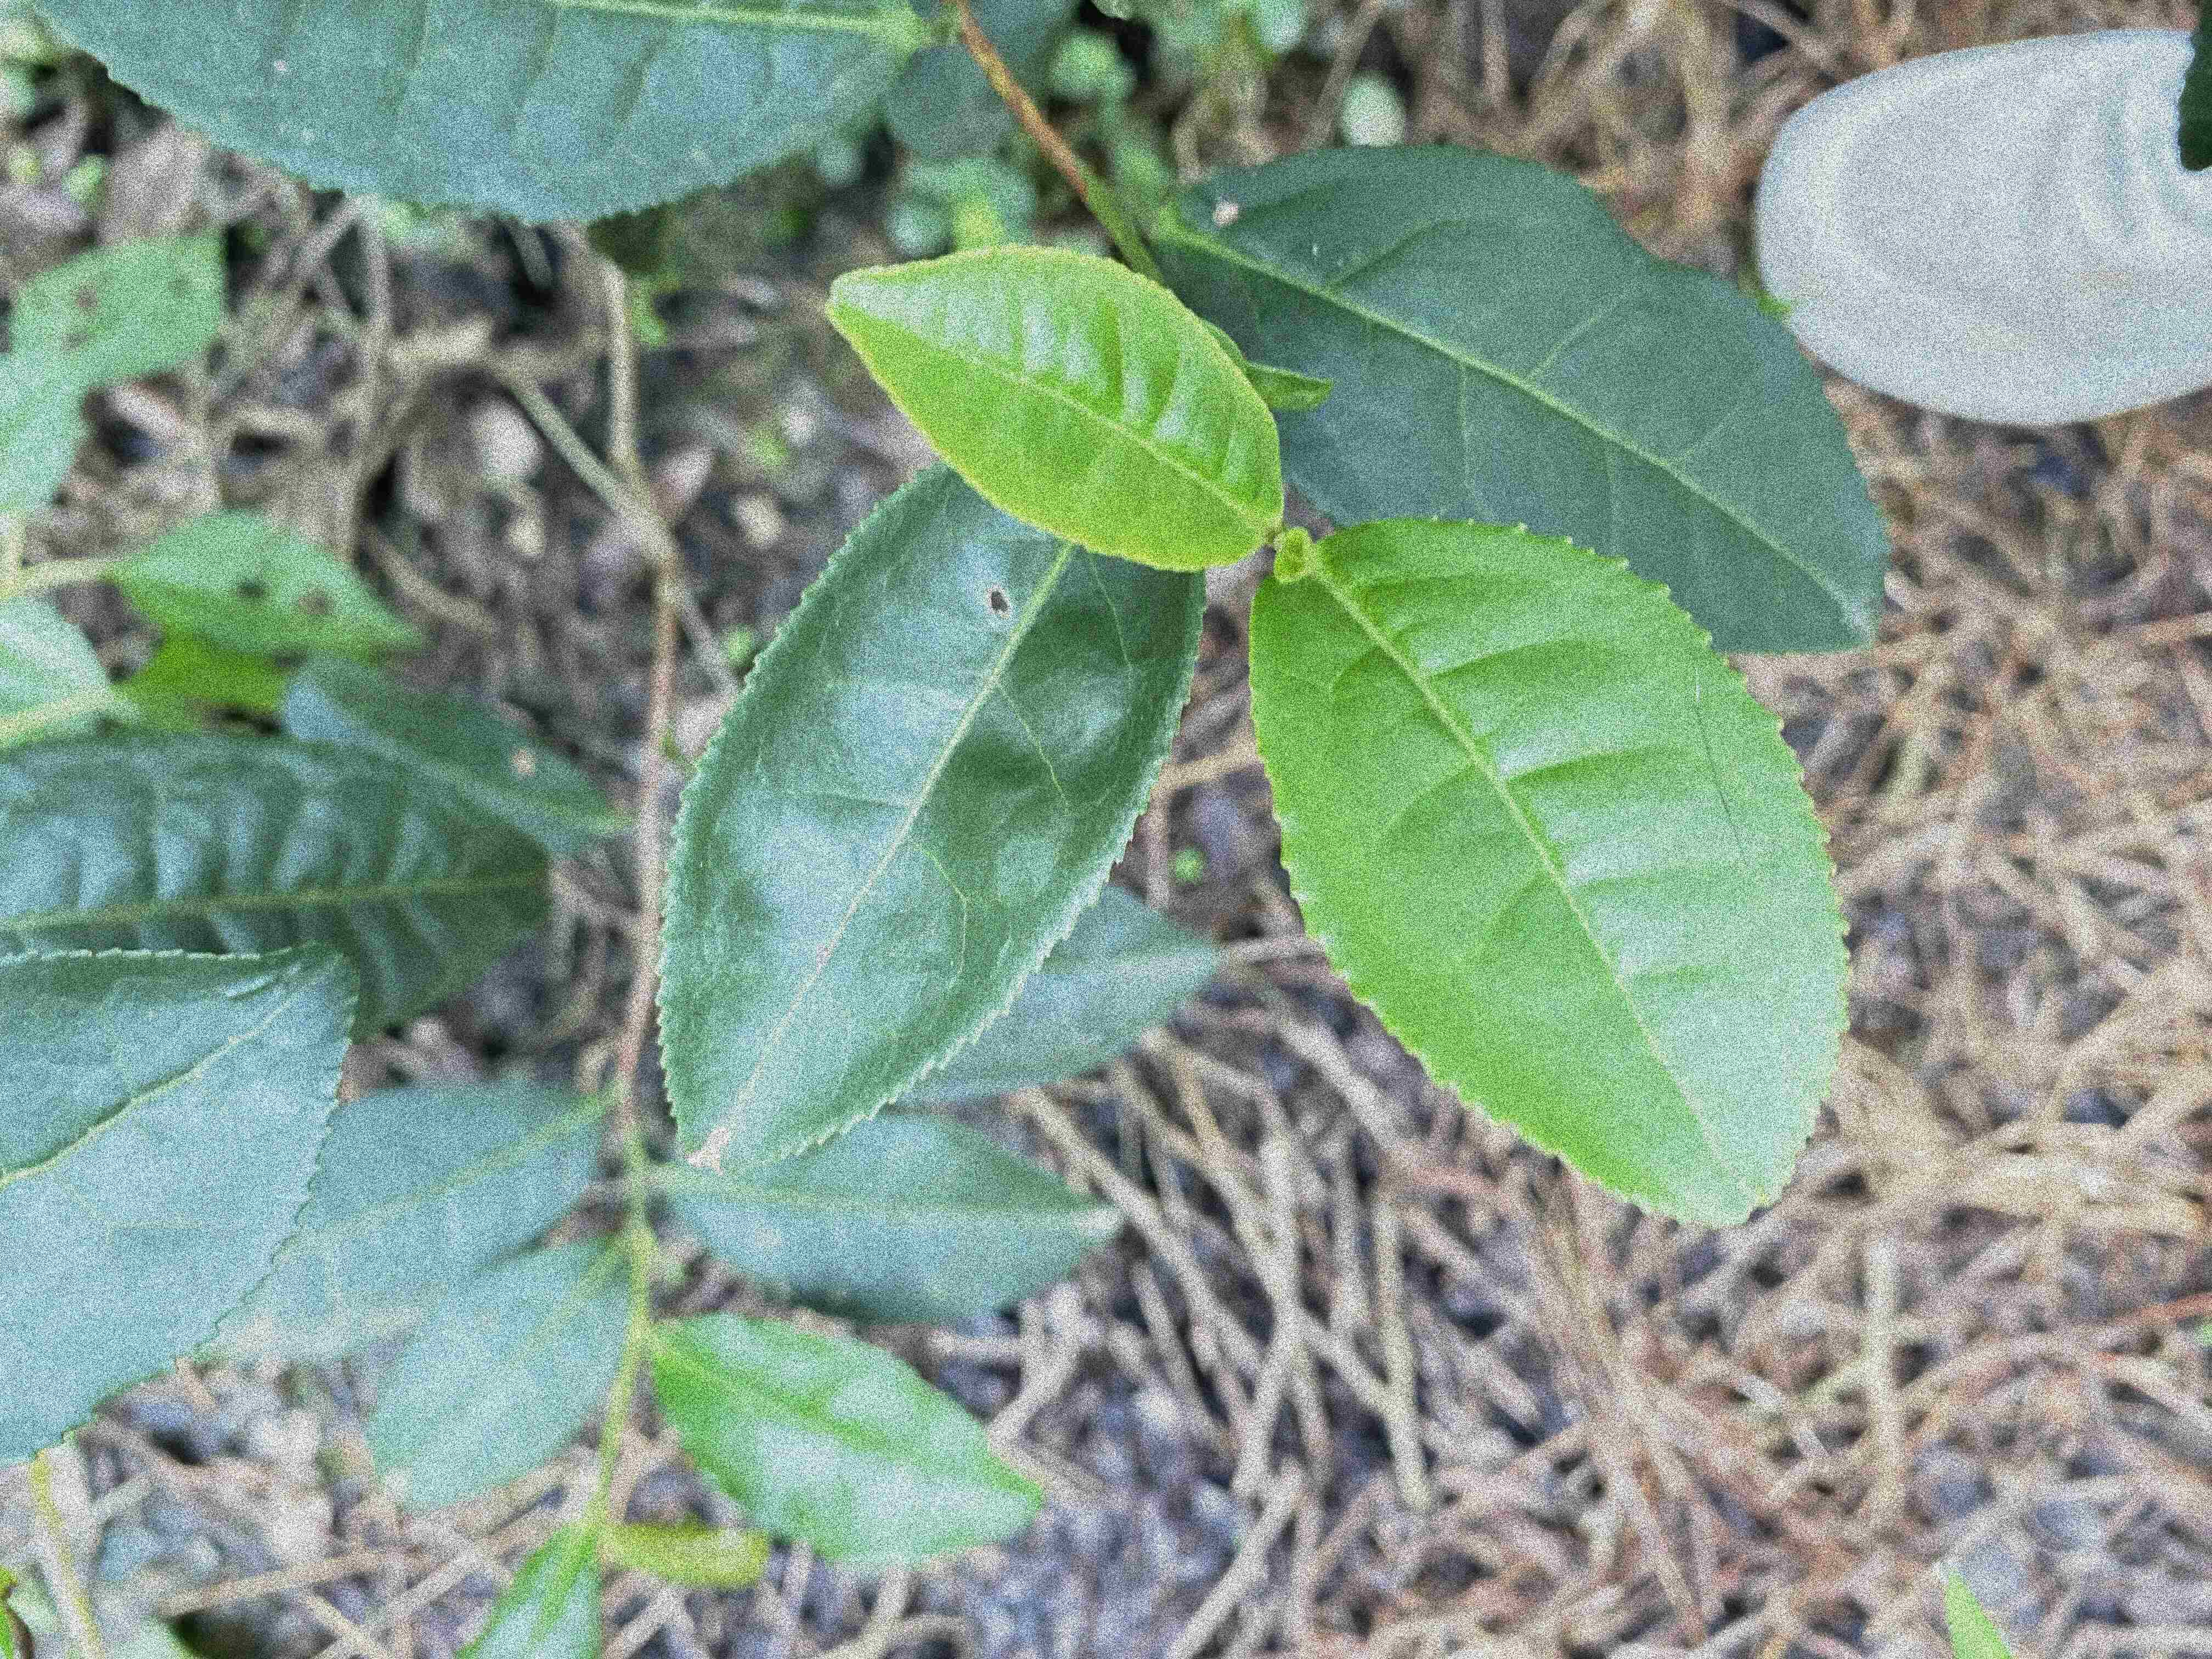healthy: (1247, 514, 1858, 1234), (0, 941, 362, 1473), (824, 244, 1284, 573)
